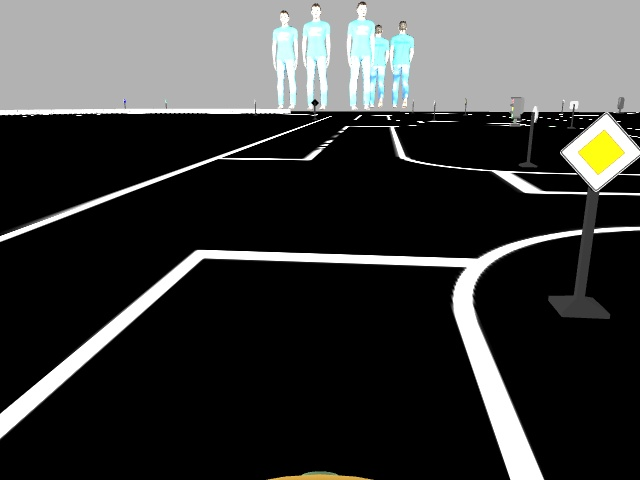Priority: (560, 109, 637, 193)
